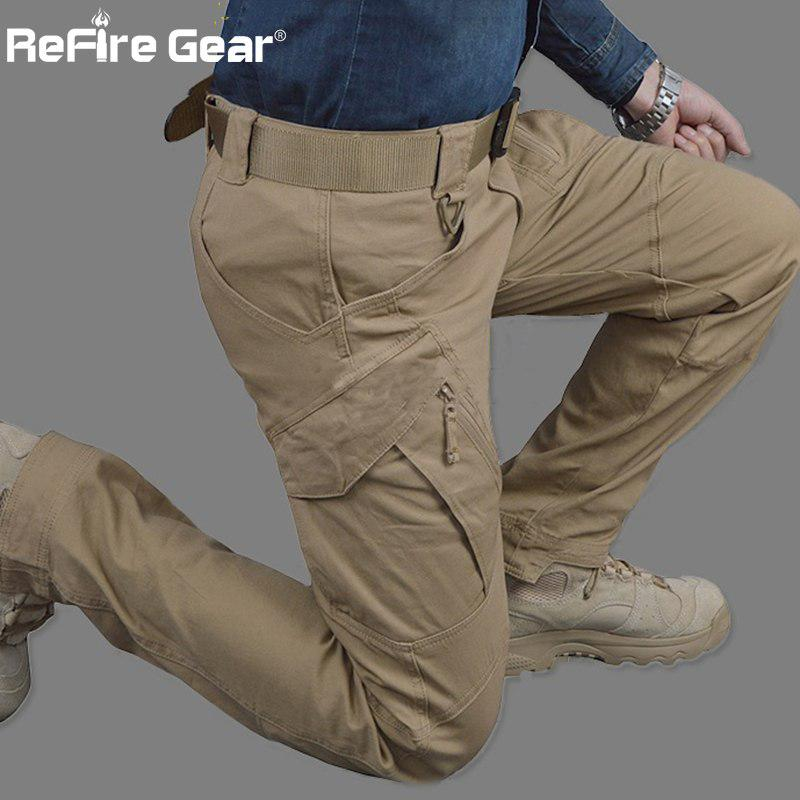pants: (204, 88, 800, 576)
